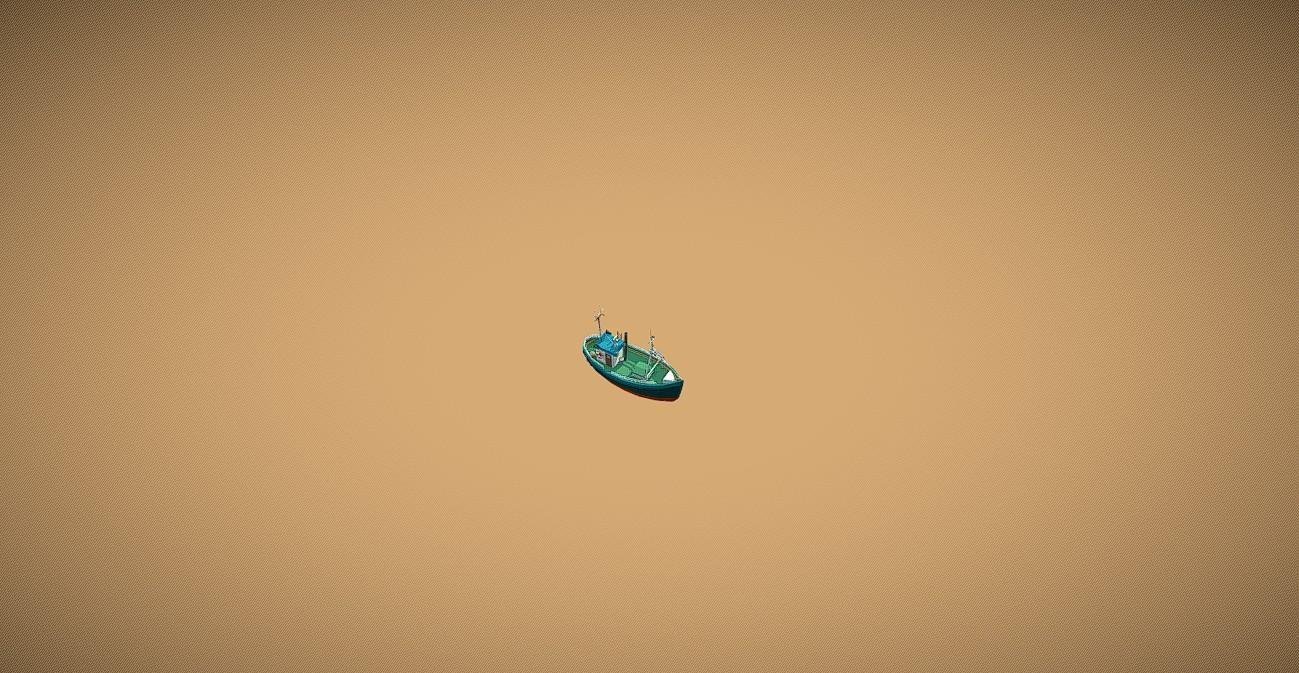Boat: (581, 309, 684, 401)
